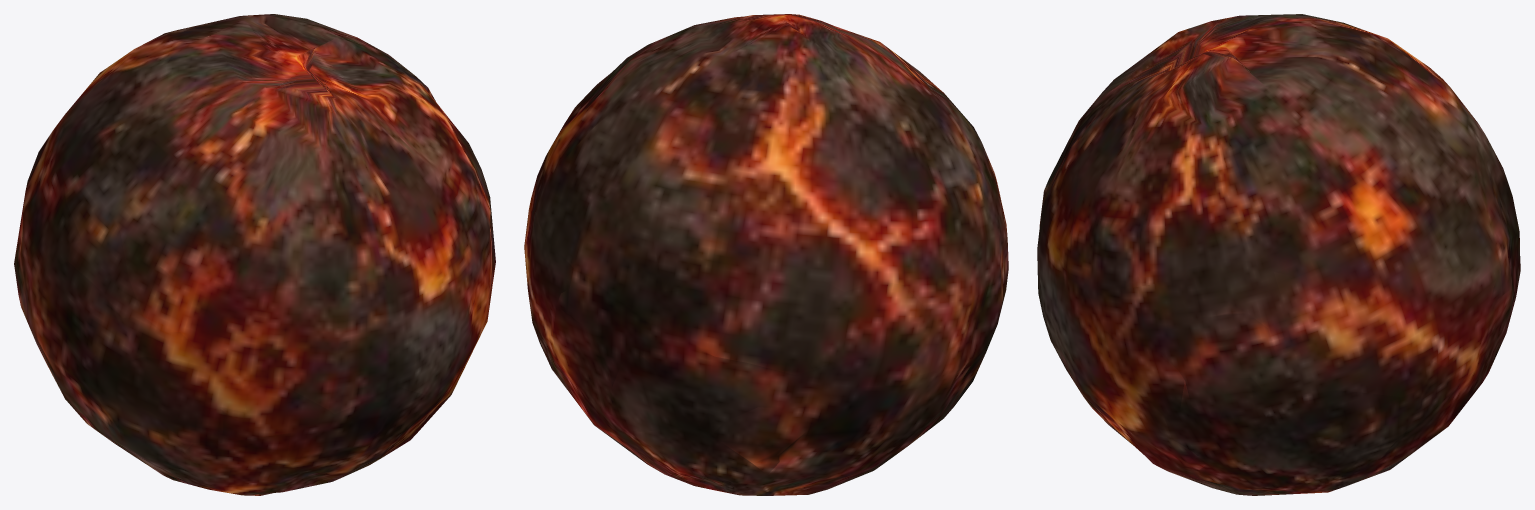
The model's file is planet_1-lod.glb.
The picture shows the model from 3 angles, left to right: view 1: azimuth 30°, elevation 25°; view 2: azimuth 150°, elevation 25°; view 3: azimuth 270°, elevation 25°; orthographic projection.
Parts seen in each view (by area): view 1: Mesh_0.001; view 2: Mesh_0.001; view 3: Mesh_0.001.
Part boxes in pixels (bbox=[...]): Mesh_0.001: bbox=[14, 14, 495, 495]; Mesh_0.001: bbox=[524, 14, 1008, 495]; Mesh_0.001: bbox=[1037, 14, 1520, 495].
Bounding box in the file's own units: 1.9 × 1.9 × 1.9.
1 material, 1 textured.
